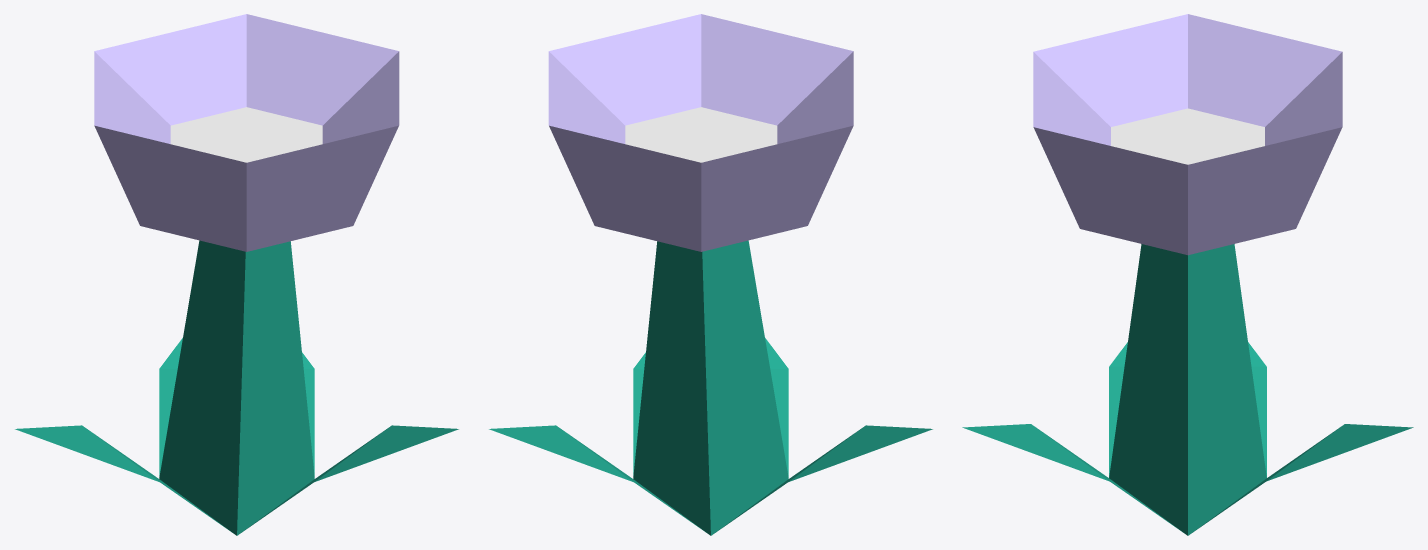
The model's file is flower_purpleC.glb.
The picture shows the model from 3 angles, left to right: view 1: azimuth 30°, elevation 25°; view 2: azimuth 150°, elevation 25°; view 3: azimuth 270°, elevation 25°; orthographic projection.
Parts seen in each view (by area): view 1: flower_purpleC; view 2: flower_purpleC; view 3: flower_purpleC.
Part boxes in pixels (x1=…): flower_purpleC: x1=15, y1=14, x2=458, y2=535; flower_purpleC: x1=489, y1=14, x2=932, y2=535; flower_purpleC: x1=962, y1=14, x2=1413, y2=535.
Size of the model in its own units: 0.2167 by 0.219 by 0.2173.
